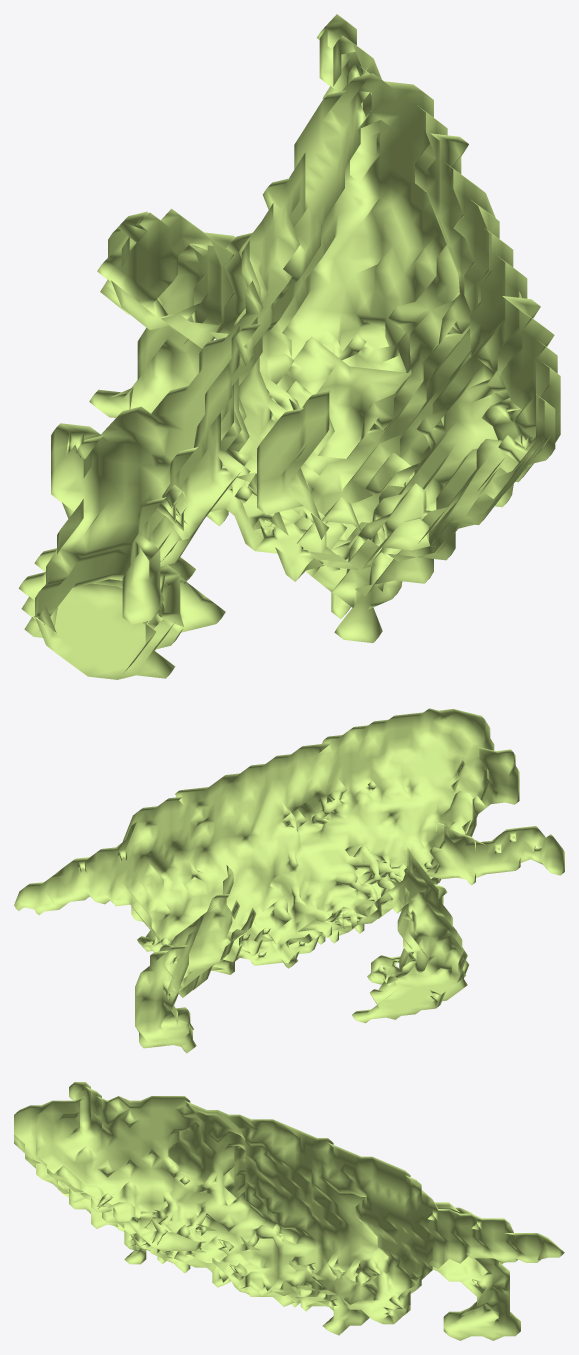
File: osteocyte_32.glb
The picture shows the model from 3 angles, top to bottom: view 1: azimuth 30°, elevation 25°; view 2: azimuth 150°, elevation 25°; view 3: azimuth 270°, elevation 25°; orthographic projection. The views are drawn at different scales.
Parts seen in each view (by area): view 1: osteocyte_32; view 2: osteocyte_32; view 3: osteocyte_32.
Boxes of the visible parts, <box> form: osteocyte_32: <box>18,14,560,679</box>; osteocyte_32: <box>14,708,564,1053</box>; osteocyte_32: <box>14,1082,564,1340</box>.
Size of the model in its own units: 15.65 by 8.05 by 22.36.
